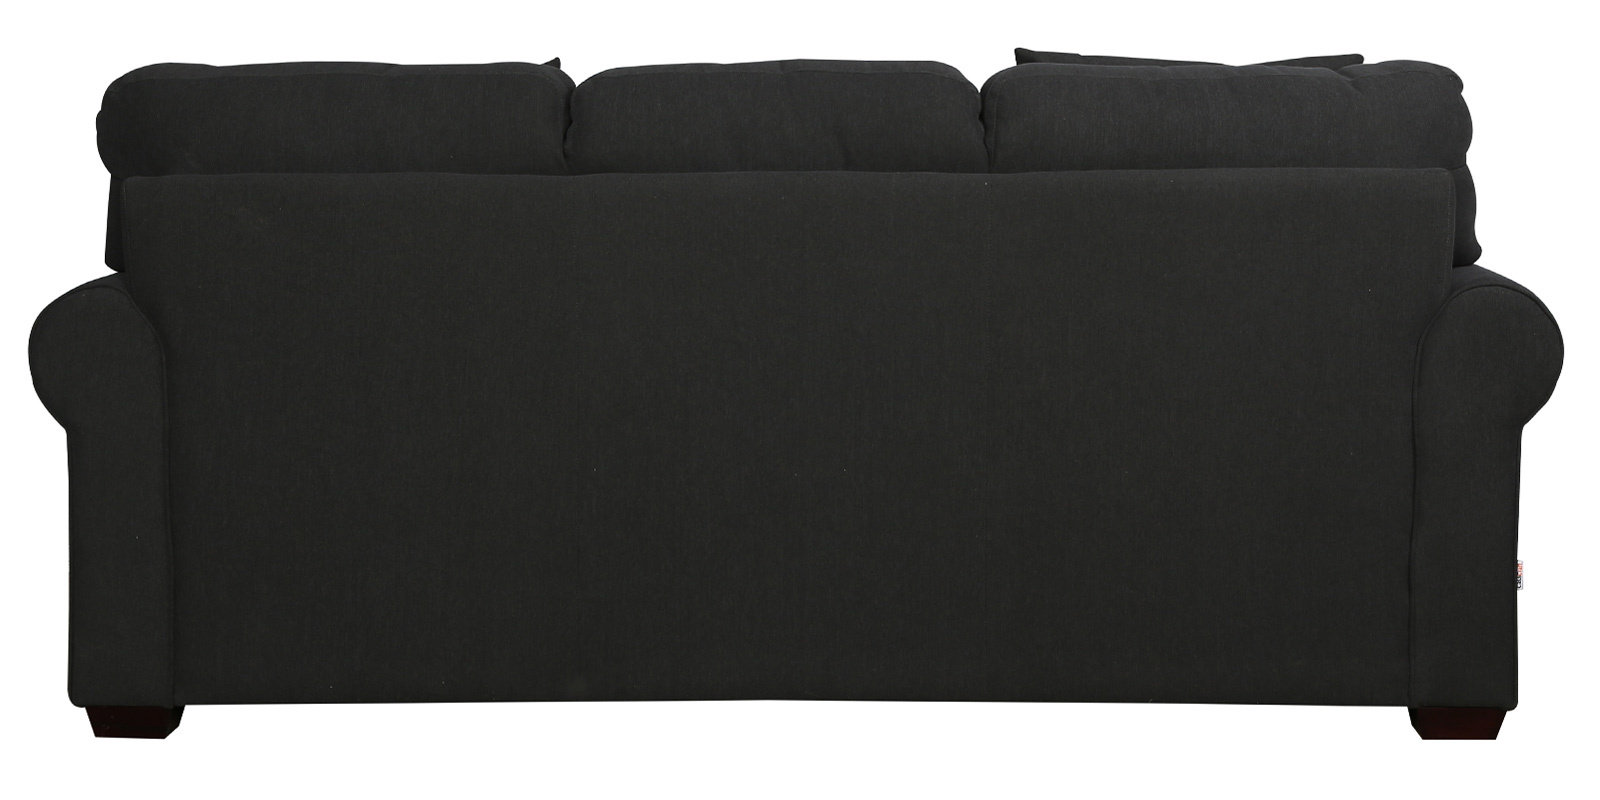Madeira Three Seater Sofa in Charcoal Grey Colour by CasaCraft: (26, 44, 1564, 739)
